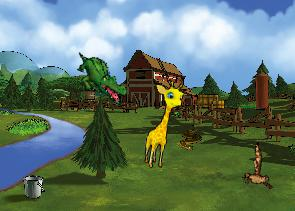crocodile: (66, 50, 135, 106)
eagle: (229, 141, 285, 200)
giraffe: (142, 78, 186, 171)
